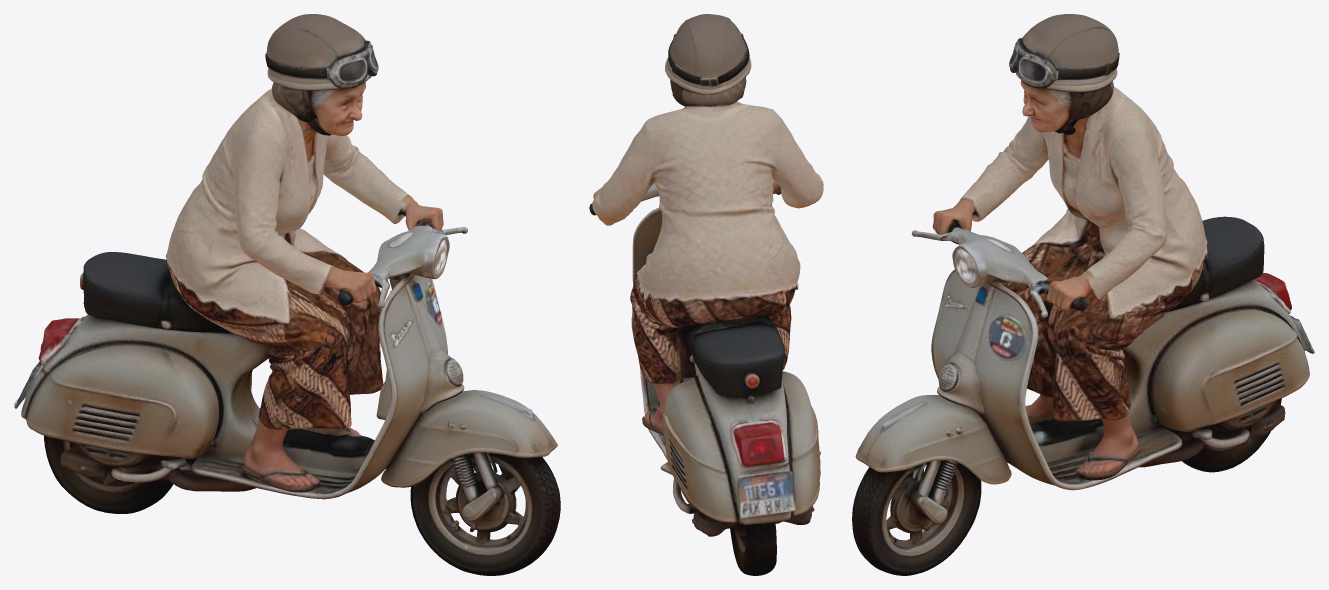
The model's file is riderGrandma.glb.
3 views of the same model, side by side, from view 1: azimuth 30°, elevation 25°; view 2: azimuth 150°, elevation 25°; view 3: azimuth 270°, elevation 25° (orthographic). The views are drawn at different scales.
Visible parts, largest first — view 1: Mesh_0_modddif_material_0_0 (×2); view 2: Mesh_0_modddif_material_0_0 (×2); view 3: Mesh_0_modddif_material_0_0 (×2).
Boxes of the visible parts, left/top/right/bottom form: Mesh_0_modddif_material_0_0 (×2): left=14, top=14, right=560, bottom=575; Mesh_0_modddif_material_0_0 (×2): left=589, top=14, right=823, bottom=575; Mesh_0_modddif_material_0_0 (×2): left=852, top=14, right=1314, bottom=575.
Bounding box in the file's own units: 0.6948 × 1 × 0.8228.
Materials: 1 (1 with a texture image).
